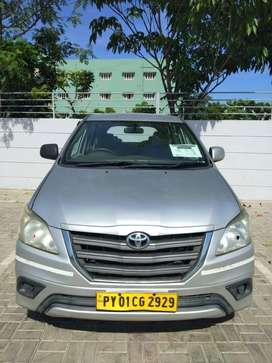PY01CG2929: (96, 291, 177, 311)
